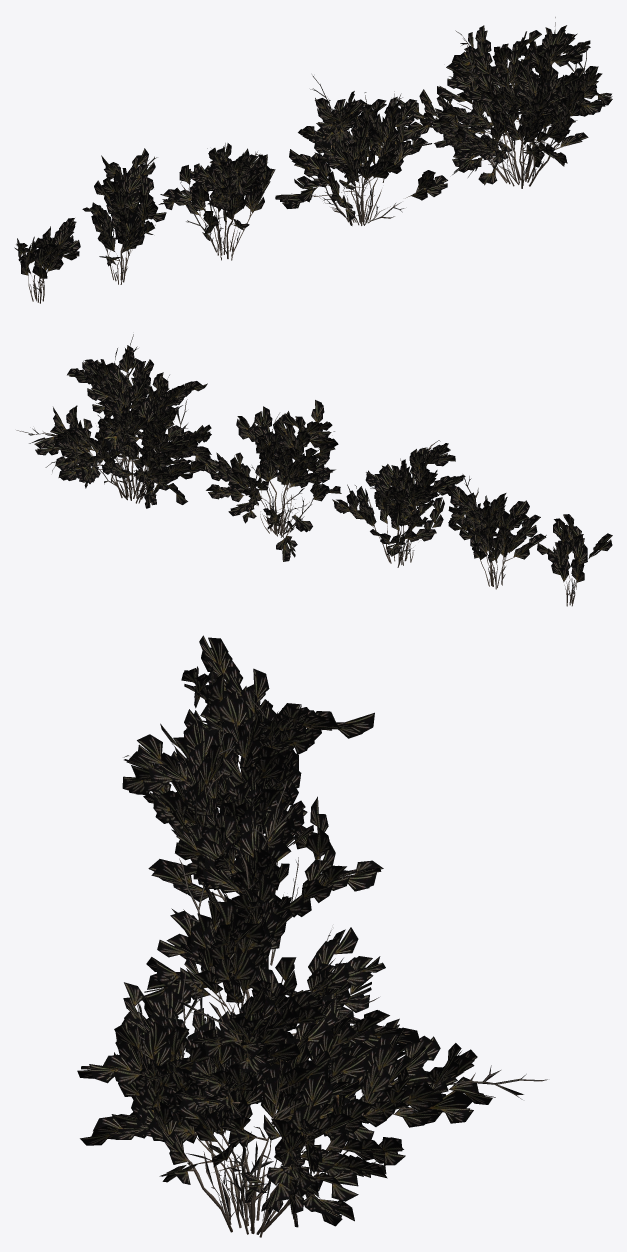
File: wild_rooibos_bush.glb
The picture shows the model from 3 angles, top to bottom: view 1: azimuth 30°, elevation 25°; view 2: azimuth 150°, elevation 25°; view 3: azimuth 270°, elevation 25°; orthographic projection. The views are drawn at different scales.
Parts seen in each view (by area): view 1: wild_rooibos_bush_a, wild_rooibos_bush_b, wild_rooibos_bush_c, wild_rooibos_bush_d, wild_rooibos_bush_e; view 2: wild_rooibos_bush_a, wild_rooibos_bush_b, wild_rooibos_bush_c, wild_rooibos_bush_d, wild_rooibos_bush_e; view 3: wild_rooibos_bush_a, wild_rooibos_bush_b, wild_rooibos_bush_c, wild_rooibos_bush_d, wild_rooibos_bush_e.
Boxes of the visible parts, box(x1,y1,x2,y2) form: wild_rooibos_bush_a: box(397, 17, 612, 188); wild_rooibos_bush_b: box(275, 75, 447, 225); wild_rooibos_bush_c: box(158, 143, 275, 260); wild_rooibos_bush_d: box(82, 148, 166, 284); wild_rooibos_bush_e: box(14, 218, 80, 303); wild_rooibos_bush_a: box(16, 334, 218, 508); wild_rooibos_bush_b: box(206, 400, 341, 561); wild_rooibos_bush_c: box(332, 440, 465, 567); wild_rooibos_bush_d: box(445, 474, 546, 589); wild_rooibos_bush_e: box(537, 514, 612, 606); wild_rooibos_bush_a: box(77, 964, 547, 1237); wild_rooibos_bush_b: box(142, 780, 385, 1082); wild_rooibos_bush_c: box(122, 719, 383, 965); wild_rooibos_bush_d: box(160, 668, 374, 811); wild_rooibos_bush_e: box(181, 635, 272, 764).
Size of the model in its own units: 2.27 by 0.541 by 0.8432.
Materials: 2 (2 with a texture image).
